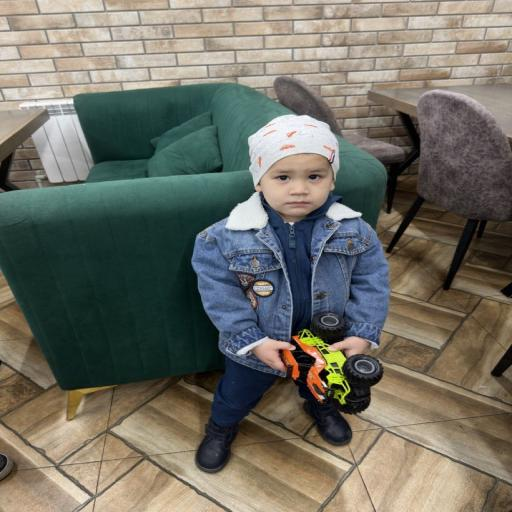bus: (387, 90, 511, 289), (274, 76, 406, 212)
bus_stop: (192, 115, 389, 471)
sidewalk: (0, 84, 292, 389)
stroller: (0, 109, 49, 191)
